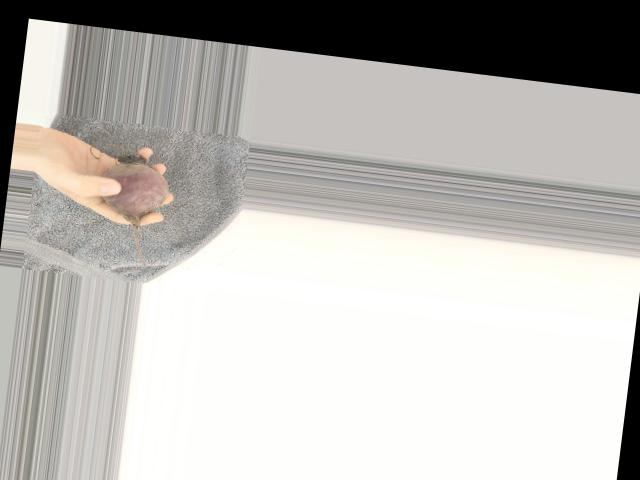beet: (90, 151, 172, 270)
